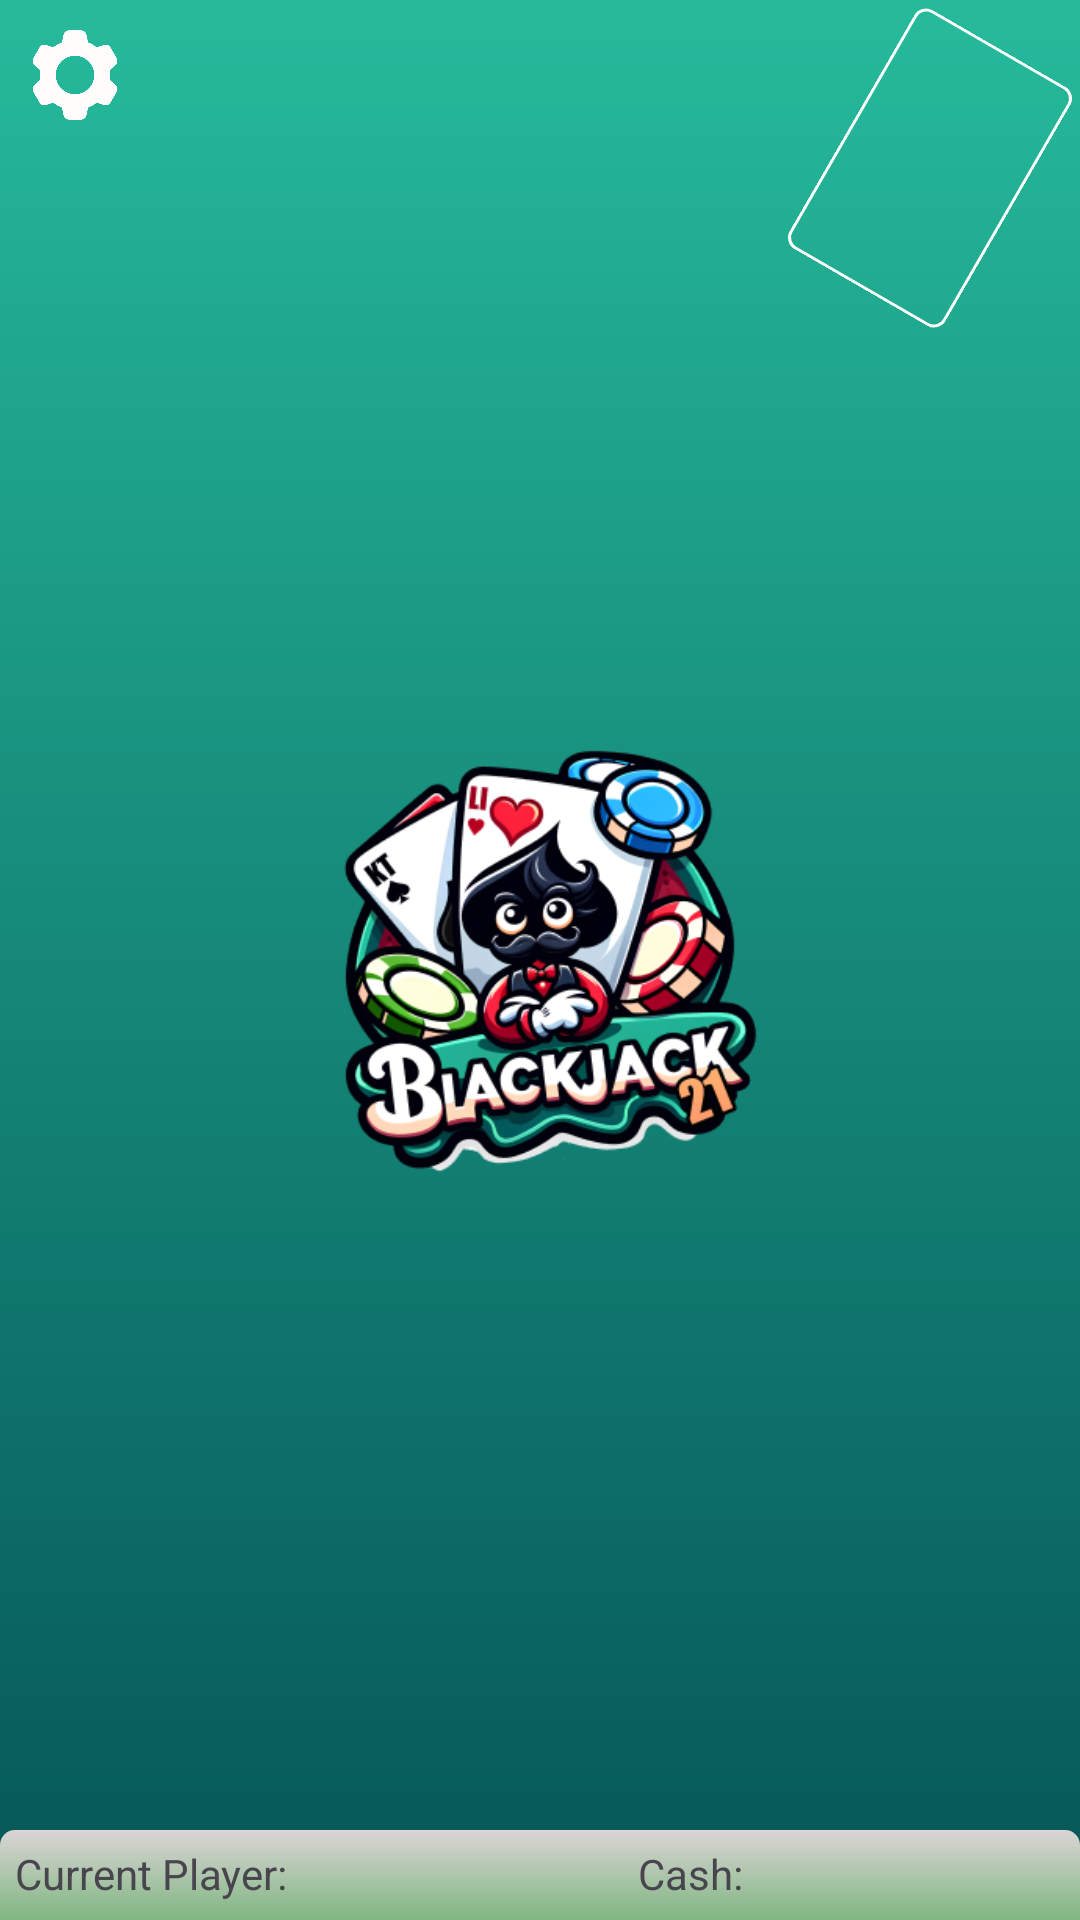

Icon click points for this 1080x1920 phone screenshot, format [x,y]:
cogwheel: [75,75]
